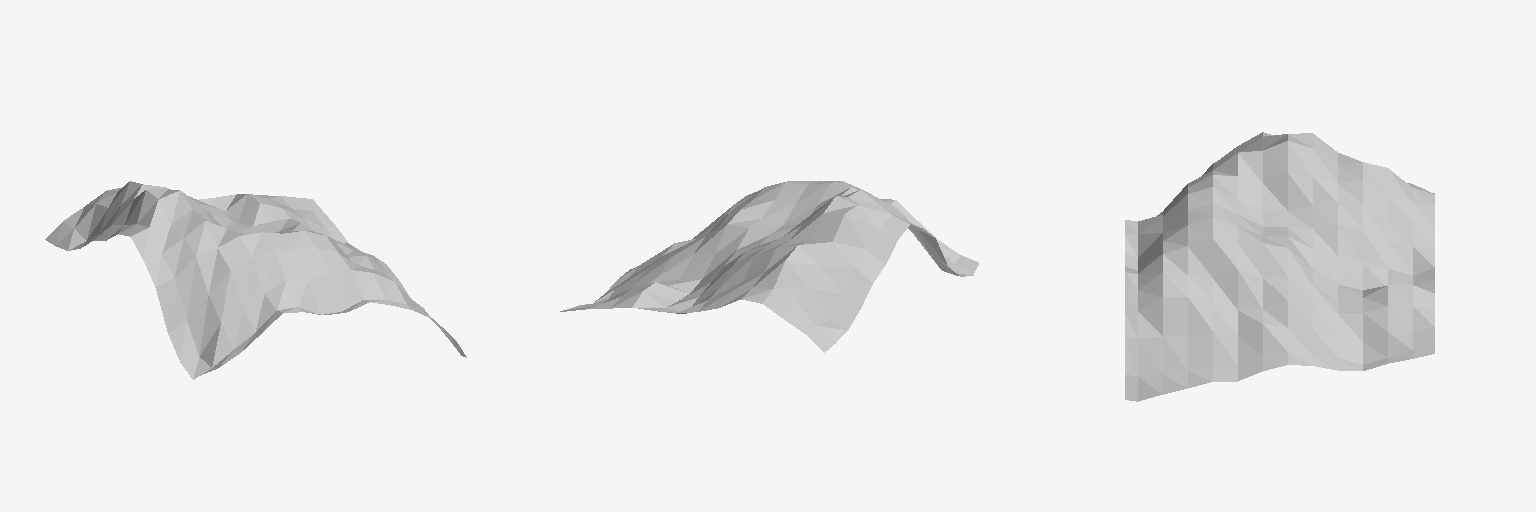
File: Landscape.033.obj
3 renders of one model, left to right at view 1: azimuth 30°, elevation 25°; view 2: azimuth 150°, elevation 25°; view 3: azimuth 270°, elevation 25°, orthographic.
Visible parts, largest first — view 1: Landscape.033; view 2: Landscape.033; view 3: Landscape.033.
Boxes of the visible parts, box(x1,y1,x2,y2) form: Landscape.033: box(45, 181, 466, 379); Landscape.033: box(560, 181, 978, 352); Landscape.033: box(1125, 132, 1434, 401).
Bounding box in the file's own units: 32 × 18.3 × 32.